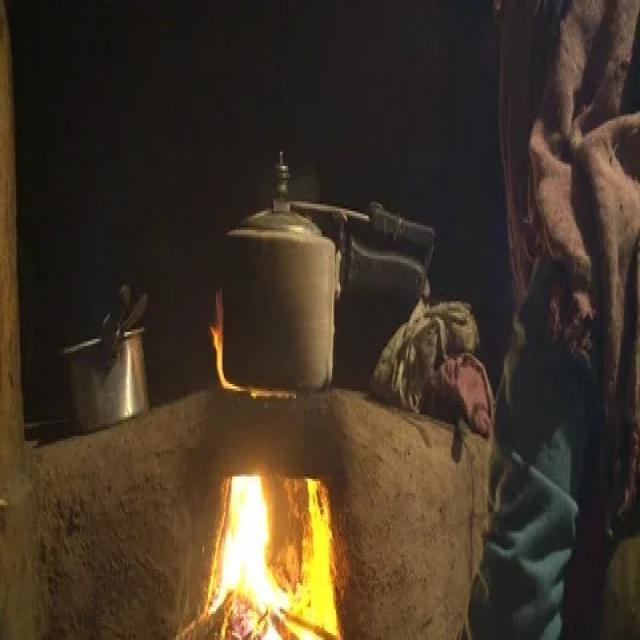fire: (223, 545, 289, 610), (232, 476, 268, 543)
